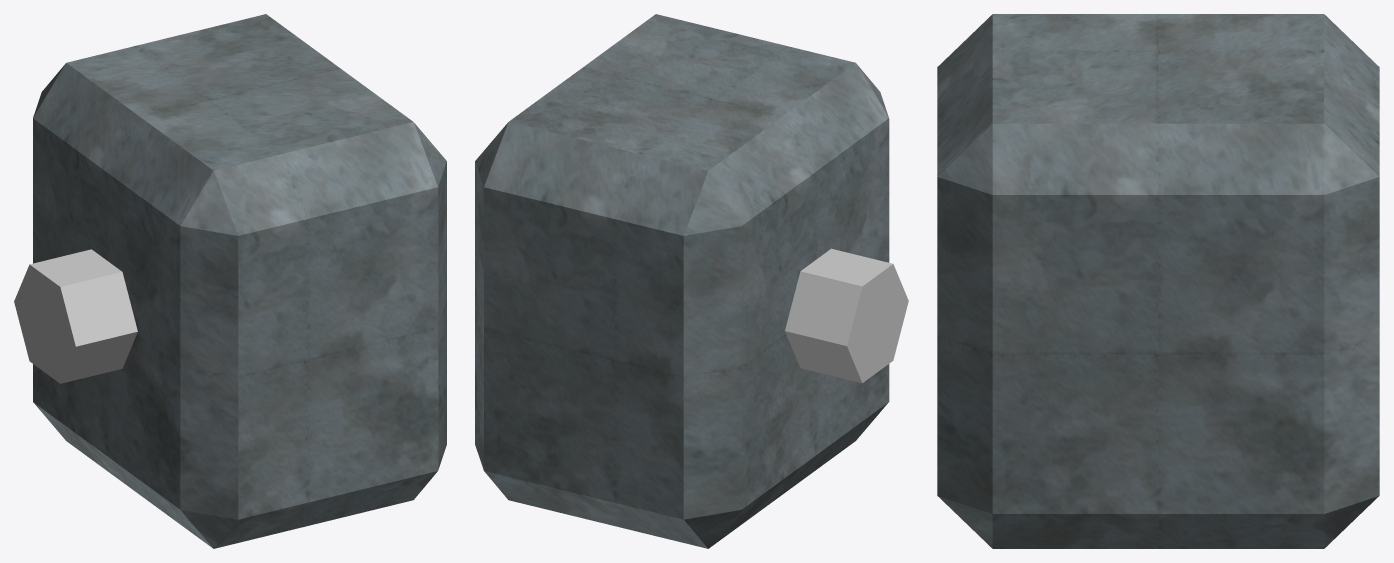
Rendered from BasePort.fbx.
3 renders of one model, left to right at view 1: azimuth 30°, elevation 25°; view 2: azimuth 150°, elevation 25°; view 3: azimuth 270°, elevation 25°, orthographic. The views are drawn at different scales.
Parts seen in each view (by area): view 1: mergedBlocks; view 2: mergedBlocks; view 3: mergedBlocks.
Boxes of the visible parts, x1,y1,x2,y2 form: mergedBlocks: (14, 14, 446, 548); mergedBlocks: (475, 14, 908, 548); mergedBlocks: (937, 14, 1379, 548).
Size of the model in its own units: 3.77 by 4.14 by 3.9.
